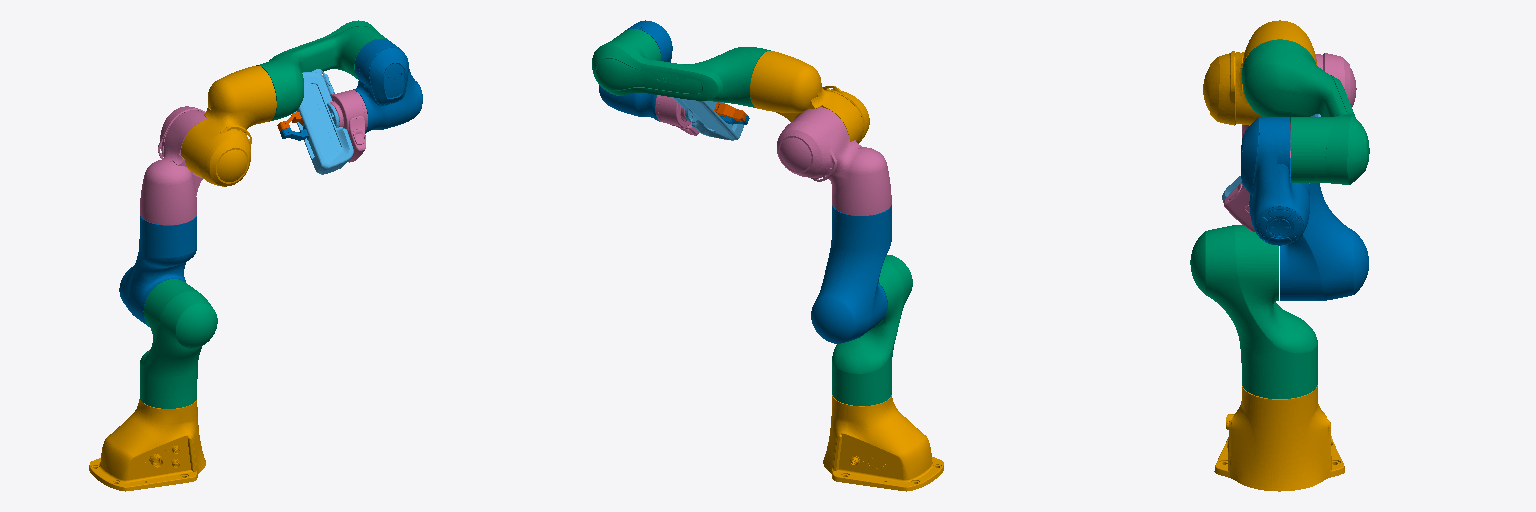
The robot description file, URDF, robot "panda":
<?xml version="1.0" encoding="utf-8"?>
<robot name="panda">
  <link name="panda_link0">
    <visual>
      <geometry>
        <mesh filename="package://franka_description/meshes/visual/link0.dae.obj"/>
      </geometry>
    </visual>
    <collision>
      <geometry>
        <mesh filename="package://franka_description/meshes/collision/link0.stl"/>
      </geometry>
    </collision>
  </link>
  <link name="panda_link0_sc">
    <collision>
      <origin xyz="-0.075 0.0 0.06" rpy="0.0 1.5707963267948966 0.0"/>
      <geometry>
        <cylinder radius="0.09" length="0.03"/>
      </geometry>
    </collision>
    <collision>
      <origin xyz="-0.06 0.0 0.06" rpy="0.0 0.0 0.0"/>
      <geometry>
        <sphere radius="0.09"/>
      </geometry>
    </collision>
    <collision>
      <origin xyz="-0.09 0.0 0.06" rpy="0.0 0.0 0.0"/>
      <geometry>
        <sphere radius="0.09"/>
      </geometry>
    </collision>
  </link>
  <link name="panda_link1">
    <visual>
      <geometry>
        <mesh filename="package://franka_description/meshes/visual/link1.dae.obj"/>
      </geometry>
    </visual>
    <collision>
      <geometry>
        <mesh filename="package://franka_description/meshes/collision/link1.stl"/>
      </geometry>
    </collision>
  </link>
  <link name="panda_link1_sc">
    <collision>
      <origin xyz="0.0 0.0 -0.1915" rpy="0.0 0.0 0.0"/>
      <geometry>
        <cylinder radius="0.09" length="0.283"/>
      </geometry>
    </collision>
    <collision>
      <origin xyz="0.0 0.0 -0.05000000000000002" rpy="0.0 0.0 0.0"/>
      <geometry>
        <sphere radius="0.09"/>
      </geometry>
    </collision>
    <collision>
      <origin xyz="0.0 0.0 -0.33299999999999996" rpy="0.0 0.0 0.0"/>
      <geometry>
        <sphere radius="0.09"/>
      </geometry>
    </collision>
  </link>
  <link name="panda_link2">
    <visual>
      <geometry>
        <mesh filename="package://franka_description/meshes/visual/link2.dae.obj"/>
      </geometry>
    </visual>
    <collision>
      <geometry>
        <mesh filename="package://franka_description/meshes/collision/link2.stl"/>
      </geometry>
    </collision>
  </link>
  <link name="panda_link2_sc">
    <collision>
      <origin xyz="0.0 0.0 0.0" rpy="0.0 0.0 0.0"/>
      <geometry>
        <cylinder radius="0.09" length="0.12"/>
      </geometry>
    </collision>
    <collision>
      <origin xyz="0.0 0.0 0.06" rpy="0.0 0.0 0.0"/>
      <geometry>
        <sphere radius="0.09"/>
      </geometry>
    </collision>
    <collision>
      <origin xyz="0.0 0.0 -0.06" rpy="0.0 0.0 0.0"/>
      <geometry>
        <sphere radius="0.09"/>
      </geometry>
    </collision>
  </link>
  <link name="panda_link3">
    <visual>
      <geometry>
        <mesh filename="package://franka_description/meshes/visual/link3.dae.obj"/>
      </geometry>
    </visual>
    <collision>
      <geometry>
        <mesh filename="package://franka_description/meshes/collision/link3.stl"/>
      </geometry>
    </collision>
  </link>
  <link name="panda_link3_sc">
    <collision>
      <origin xyz="0.0 0.0 -0.145" rpy="0.0 0.0 0.0"/>
      <geometry>
        <cylinder radius="0.09" length="0.15"/>
      </geometry>
    </collision>
    <collision>
      <origin xyz="0.0 0.0 -0.06999999999999999" rpy="0.0 0.0 0.0"/>
      <geometry>
        <sphere radius="0.09"/>
      </geometry>
    </collision>
    <collision>
      <origin xyz="0.0 0.0 -0.21999999999999997" rpy="0.0 0.0 0.0"/>
      <geometry>
        <sphere radius="0.09"/>
      </geometry>
    </collision>
  </link>
  <link name="panda_link4">
    <visual>
      <geometry>
        <mesh filename="package://franka_description/meshes/visual/link4.dae.obj"/>
      </geometry>
    </visual>
    <collision>
      <geometry>
        <mesh filename="package://franka_description/meshes/collision/link4.stl"/>
      </geometry>
    </collision>
  </link>
  <link name="panda_link4_sc">
    <collision>
      <origin xyz="0.0 0.0 0.0" rpy="0.0 0.0 0.0"/>
      <geometry>
        <cylinder radius="0.09" length="0.12"/>
      </geometry>
    </collision>
    <collision>
      <origin xyz="0.0 0.0 0.06" rpy="0.0 0.0 0.0"/>
      <geometry>
        <sphere radius="0.09"/>
      </geometry>
    </collision>
    <collision>
      <origin xyz="0.0 0.0 -0.06" rpy="0.0 0.0 0.0"/>
      <geometry>
        <sphere radius="0.09"/>
      </geometry>
    </collision>
  </link>
  <link name="panda_link5">
    <visual>
      <geometry>
        <mesh filename="package://franka_description/meshes/visual/link5.dae.obj"/>
      </geometry>
    </visual>
    <collision>
      <geometry>
        <mesh filename="package://franka_description/meshes/collision/link5.stl"/>
      </geometry>
    </collision>
  </link>
  <link name="panda_link5_sc">
    <collision>
      <origin xyz="0.0 0.0 -0.26" rpy="0.0 0.0 0.0"/>
      <geometry>
        <cylinder radius="0.09" length="0.1"/>
      </geometry>
    </collision>
    <collision>
      <origin xyz="0.0 0.0 -0.21000000000000002" rpy="0.0 0.0 0.0"/>
      <geometry>
        <sphere radius="0.09"/>
      </geometry>
    </collision>
    <collision>
      <origin xyz="0.0 0.0 -0.31" rpy="0.0 0.0 0.0"/>
      <geometry>
        <sphere radius="0.09"/>
      </geometry>
    </collision>
    <collision>
      <origin xyz="0.0 0.08 -0.13" rpy="0.0 0.0 0.08"/>
      <geometry>
        <cylinder radius="0.055" length="0.14"/>
      </geometry>
    </collision>
    <collision>
      <origin xyz="0.0 0.08 -0.06" rpy="0.0 0.0 0.0"/>
      <geometry>
        <sphere radius="0.055"/>
      </geometry>
    </collision>
    <collision>
      <origin xyz="0.0 0.08 -0.2" rpy="0.0 0.0 0.0"/>
      <geometry>
        <sphere radius="0.055"/>
      </geometry>
    </collision>
  </link>
  <link name="panda_link6">
    <visual>
      <geometry>
        <mesh filename="package://franka_description/meshes/visual/link6.dae.obj"/>
      </geometry>
    </visual>
    <collision>
      <geometry>
        <mesh filename="package://franka_description/meshes/collision/link6.stl"/>
      </geometry>
    </collision>
  </link>
  <link name="panda_link6_sc">
    <collision>
      <origin xyz="0.0 0.0 -0.03" rpy="0.0 0.0 0.0"/>
      <geometry>
        <cylinder radius="0.08" length="0.08"/>
      </geometry>
    </collision>
    <collision>
      <origin xyz="0.0 0.0 0.010000000000000002" rpy="0.0 0.0 0.0"/>
      <geometry>
        <sphere radius="0.08"/>
      </geometry>
    </collision>
    <collision>
      <origin xyz="0.0 0.0 -0.07" rpy="0.0 0.0 0.0"/>
      <geometry>
        <sphere radius="0.08"/>
      </geometry>
    </collision>
  </link>
  <link name="panda_link7">
    <visual>
      <geometry>
        <mesh filename="package://franka_description/meshes/visual/link7.dae.obj"/>
      </geometry>
    </visual>
    <collision>
      <geometry>
        <mesh filename="package://franka_description/meshes/collision/link7.stl"/>
      </geometry>
    </collision>
  </link>
  <link name="panda_link7_sc">
    <collision>
      <origin xyz="0.0 0.0 0.01" rpy="0.0 0.0 0.0"/>
      <geometry>
        <cylinder radius="0.07" length="0.14"/>
      </geometry>
    </collision>
    <collision>
      <origin xyz="0.0 0.0 0.08" rpy="0.0 0.0 0.0"/>
      <geometry>
        <sphere radius="0.07"/>
      </geometry>
    </collision>
    <collision>
      <origin xyz="0.0 0.0 -0.060000000000000005" rpy="0.0 0.0 0.0"/>
      <geometry>
        <sphere radius="0.07"/>
      </geometry>
    </collision>
    <collision>
      <origin xyz="0.06 0.0 0.082" rpy="0.0 1.5707963267948966 0.0"/>
      <geometry>
        <cylinder radius="0.06" length="0.01"/>
      </geometry>
    </collision>
    <collision>
      <origin xyz="0.065 0.0 0.082" rpy="0.0 0.0 0.0"/>
      <geometry>
        <sphere radius="0.06"/>
      </geometry>
    </collision>
    <collision>
      <origin xyz="0.055 0.0 0.082" rpy="0.0 0.0 0.0"/>
      <geometry>
        <sphere radius="0.06"/>
      </geometry>
    </collision>
  </link>
  <link name="panda_link8"/>
  <link name="panda_hand">
    <visual>
      <geometry>
        <mesh filename="package://franka_description/meshes/visual/hand.dae.obj"/>
      </geometry>
    </visual>
    <collision>
      <geometry>
        <mesh filename="package://franka_description/meshes/collision/hand.stl"/>
      </geometry>
    </collision>
  </link>
  <link name="panda_hand_sc">
    <collision>
      <origin xyz="0.0 0.0 0.04" rpy="1.5707963267948966 0.0 0.0"/>
      <geometry>
        <cylinder radius="0.07" length="0.1"/>
      </geometry>
    </collision>
    <collision>
      <origin xyz="0.0 0.05 0.04" rpy="0.0 0.0 0.0"/>
      <geometry>
        <sphere radius="0.07"/>
      </geometry>
    </collision>
    <collision>
      <origin xyz="0.0 -0.05 0.04" rpy="0.0 0.0 0.0"/>
      <geometry>
        <sphere radius="0.07"/>
      </geometry>
    </collision>
    <collision>
      <origin xyz="0.0 0.0 0.1" rpy="1.5707963267948966 0.0 0.0"/>
      <geometry>
        <cylinder radius="0.05" length="0.1"/>
      </geometry>
    </collision>
    <collision>
      <origin xyz="0.0 0.05 0.1" rpy="0.0 0.0 0.0"/>
      <geometry>
        <sphere radius="0.05"/>
      </geometry>
    </collision>
    <collision>
      <origin xyz="0.0 -0.05 0.1" rpy="0.0 0.0 0.0"/>
      <geometry>
        <sphere radius="0.05"/>
      </geometry>
    </collision>
  </link>
  <link name="panda_hand_tcp"/>
  <link name="panda_leftfinger">
    <visual>
      <geometry>
        <mesh filename="package://franka_description/meshes/visual/finger.dae.obj"/>
      </geometry>
    </visual>
    <collision>
      <origin xyz="0.0 0.0185 0.011" rpy="0.0 0.0 0.0"/>
      <geometry>
        <box size="0.022 0.015 0.02"/>
      </geometry>
    </collision>
    <collision>
      <origin xyz="0.0 0.0068 0.0022" rpy="0.0 0.0 0.0"/>
      <geometry>
        <box size="0.022 0.0088 0.0038"/>
      </geometry>
    </collision>
    <collision>
      <origin xyz="0.0 0.0159 0.02835" rpy="0.5235987755982988 0.0 0.0"/>
      <geometry>
        <box size="0.0175 0.007 0.0235"/>
      </geometry>
    </collision>
    <collision>
      <origin xyz="0.0 0.00758 0.04525" rpy="0.0 0.0 0.0"/>
      <geometry>
        <box size="0.0175 0.0152 0.0185"/>
      </geometry>
    </collision>
  </link>
  <link name="panda_rightfinger">
    <visual>
      <origin xyz="0.0 0.0 0.0" rpy="0.0 0.0 3.141592653589793"/>
      <geometry>
        <mesh filename="package://franka_description/meshes/visual/finger.dae.obj"/>
      </geometry>
    </visual>
    <collision>
      <origin xyz="0.0 -0.0185 0.011" rpy="0.0 0.0 0.0"/>
      <geometry>
        <box size="0.022 0.015 0.02"/>
      </geometry>
    </collision>
    <collision>
      <origin xyz="0.0 -0.0068 0.0022" rpy="0.0 0.0 0.0"/>
      <geometry>
        <box size="0.022 0.0088 0.0038"/>
      </geometry>
    </collision>
    <collision>
      <origin xyz="0.0 -0.0159 0.02835" rpy="-0.5235987755982988 0.0 0.0"/>
      <geometry>
        <box size="0.0175 0.007 0.0235"/>
      </geometry>
    </collision>
    <collision>
      <origin xyz="0.0 -0.00758 0.04525" rpy="0.0 0.0 0.0"/>
      <geometry>
        <box size="0.0175 0.0152 0.0185"/>
      </geometry>
    </collision>
  </link>
  <joint name="panda_link0_sc_joint" type="fixed">
    <parent link="panda_link0"/>
    <child link="panda_link0_sc"/>
    <axis xyz="1.0 0.0 0.0"/>
    <origin xyz="0.0 0.0 0.0" rpy="0.0 0.0 0.0"/>
  </joint>
  <joint name="panda_link1_sc_joint" type="fixed">
    <parent link="panda_link1"/>
    <child link="panda_link1_sc"/>
    <axis xyz="1.0 0.0 0.0"/>
    <origin xyz="0.0 0.0 0.0" rpy="0.0 0.0 0.0"/>
  </joint>
  <joint name="panda_joint1" type="revolute">
    <parent link="panda_link0"/>
    <child link="panda_link1"/>
    <axis xyz="0.0 0.0 1.0"/>
    <dynamics damping="0.003" friction="0.0" D="1" K="7000" mu_coulomb="0" mu_viscous="16"/>
    <limit lower="-2.8973" upper="2.8973" effort="87.0" velocity="2.175"/>
    <safety_controller k_position="100.0" soft_lower_limit="-2.8973" soft_upper_limit="2.8973" k_velocity="40.0"/>
    <origin xyz="0.0 0.0 0.333" rpy="0.0 0.0 0.0"/>
  </joint>
  <joint name="panda_link2_sc_joint" type="fixed">
    <parent link="panda_link2"/>
    <child link="panda_link2_sc"/>
    <axis xyz="1.0 0.0 0.0"/>
    <origin xyz="0.0 0.0 0.0" rpy="0.0 0.0 0.0"/>
  </joint>
  <joint name="panda_joint2" type="revolute">
    <parent link="panda_link1"/>
    <child link="panda_link2"/>
    <axis xyz="0.0 0.0 1.0"/>
    <dynamics damping="0.003" friction="0.0" D="1" K="7000" mu_coulomb="0" mu_viscous="16"/>
    <limit lower="-1.7628" upper="1.7628" effort="87.0" velocity="2.175"/>
    <safety_controller k_position="100.0" soft_lower_limit="-1.7628" soft_upper_limit="1.7628" k_velocity="40.0"/>
    <origin xyz="0.0 0.0 0.0" rpy="-1.5707963267948966 0.0 0.0"/>
  </joint>
  <joint name="panda_link3_sc_joint" type="fixed">
    <parent link="panda_link3"/>
    <child link="panda_link3_sc"/>
    <axis xyz="1.0 0.0 0.0"/>
    <origin xyz="0.0 0.0 0.0" rpy="0.0 0.0 0.0"/>
  </joint>
  <joint name="panda_joint3" type="revolute">
    <parent link="panda_link2"/>
    <child link="panda_link3"/>
    <axis xyz="0.0 0.0 1.0"/>
    <dynamics damping="0.003" friction="0.0" D="1" K="7000" mu_coulomb="0" mu_viscous="16"/>
    <limit lower="-2.8973" upper="2.8973" effort="87.0" velocity="2.175"/>
    <safety_controller k_position="100.0" soft_lower_limit="-2.8973" soft_upper_limit="2.8973" k_velocity="40.0"/>
    <origin xyz="0.0 -0.316 0.0" rpy="1.5707963267948966 0.0 0.0"/>
  </joint>
  <joint name="panda_link4_sc_joint" type="fixed">
    <parent link="panda_link4"/>
    <child link="panda_link4_sc"/>
    <axis xyz="1.0 0.0 0.0"/>
    <origin xyz="0.0 0.0 0.0" rpy="0.0 0.0 0.0"/>
  </joint>
  <joint name="panda_joint4" type="revolute">
    <parent link="panda_link3"/>
    <child link="panda_link4"/>
    <axis xyz="0.0 0.0 1.0"/>
    <dynamics damping="0.003" friction="0.0" D="1" K="7000" mu_coulomb="0" mu_viscous="16"/>
    <limit lower="-3.0718" upper="-0.0698" effort="87.0" velocity="2.175"/>
    <safety_controller k_position="100.0" soft_lower_limit="-3.0718" soft_upper_limit="-0.0698" k_velocity="40.0"/>
    <origin xyz="0.0825 0.0 0.0" rpy="1.5707963267948966 0.0 0.0"/>
  </joint>
  <joint name="panda_link5_sc_joint" type="fixed">
    <parent link="panda_link5"/>
    <child link="panda_link5_sc"/>
    <axis xyz="1.0 0.0 0.0"/>
    <origin xyz="0.0 0.0 0.0" rpy="0.0 0.0 0.0"/>
  </joint>
  <joint name="panda_joint5" type="revolute">
    <parent link="panda_link4"/>
    <child link="panda_link5"/>
    <axis xyz="0.0 0.0 1.0"/>
    <dynamics damping="0.003" friction="0.0" D="1" K="7000" mu_coulomb="0" mu_viscous="16"/>
    <limit lower="-2.8973" upper="2.8973" effort="12.0" velocity="2.61"/>
    <safety_controller k_position="100.0" soft_lower_limit="-2.8973" soft_upper_limit="2.8973" k_velocity="40.0"/>
    <origin xyz="-0.0825 0.384 0.0" rpy="-1.5707963267948966 0.0 0.0"/>
  </joint>
  <joint name="panda_link6_sc_joint" type="fixed">
    <parent link="panda_link6"/>
    <child link="panda_link6_sc"/>
    <axis xyz="1.0 0.0 0.0"/>
    <origin xyz="0.0 0.0 0.0" rpy="0.0 0.0 0.0"/>
  </joint>
  <joint name="panda_joint6" type="revolute">
    <parent link="panda_link5"/>
    <child link="panda_link6"/>
    <axis xyz="0.0 0.0 1.0"/>
    <dynamics damping="0.003" friction="0.0" D="1" K="7000" mu_coulomb="0" mu_viscous="16"/>
    <limit lower="-0.0175" upper="3.7525" effort="12.0" velocity="2.61"/>
    <safety_controller k_position="100.0" soft_lower_limit="-0.0175" soft_upper_limit="3.7525" k_velocity="40.0"/>
    <origin xyz="0.0 0.0 0.0" rpy="1.5707963267948966 0.0 0.0"/>
  </joint>
  <joint name="panda_link7_sc_joint" type="fixed">
    <parent link="panda_link7"/>
    <child link="panda_link7_sc"/>
    <axis xyz="1.0 0.0 0.0"/>
    <origin xyz="0.0 0.0 0.0" rpy="0.0 0.0 0.7853981633974483"/>
  </joint>
  <joint name="panda_joint7" type="revolute">
    <parent link="panda_link6"/>
    <child link="panda_link7"/>
    <axis xyz="0.0 0.0 1.0"/>
    <dynamics damping="0.003" friction="0.0" D="1" K="7000" mu_coulomb="0" mu_viscous="16"/>
    <limit lower="-2.8973" upper="2.8973" effort="12.0" velocity="2.61"/>
    <safety_controller k_position="100.0" soft_lower_limit="-2.8973" soft_upper_limit="2.8973" k_velocity="40.0"/>
    <origin xyz="0.088 0.0 0.0" rpy="1.5707963267948966 0.0 0.0"/>
  </joint>
  <joint name="panda_joint8" type="fixed">
    <parent link="panda_link7"/>
    <child link="panda_link8"/>
    <axis xyz="1.0 0.0 0.0"/>
    <origin xyz="0.0 0.0 0.107" rpy="0.0 0.0 0.0"/>
  </joint>
  <joint name="panda_hand_joint" type="fixed">
    <parent link="panda_link8"/>
    <child link="panda_hand"/>
    <axis xyz="1.0 0.0 0.0"/>
    <origin xyz="0.0 0.0 0.0" rpy="0.0 0.0 -0.7853981633974483"/>
  </joint>
  <joint name="panda_hand_sc_joint" type="fixed">
    <parent link="panda_hand"/>
    <child link="panda_hand_sc"/>
    <axis xyz="1.0 0.0 0.0"/>
    <origin xyz="0.0 0.0 0.0" rpy="0.0 0.0 0.0"/>
  </joint>
  <joint name="panda_hand_tcp_joint" type="fixed">
    <parent link="panda_hand"/>
    <child link="panda_hand_tcp"/>
    <axis xyz="1.0 0.0 0.0"/>
    <origin xyz="0.0 0.0 0.1034" rpy="0.0 0.0 0.0"/>
  </joint>
  <joint name="panda_finger_joint1" type="prismatic">
    <parent link="panda_hand"/>
    <child link="panda_leftfinger"/>
    <axis xyz="0.0 1.0 0.0"/>
    <dynamics damping="0.3" friction="0.0"/>
    <limit upper="0.04" effort="100.0" velocity="0.2"/>
    <origin xyz="0.0 0.0 0.0584" rpy="0.0 0.0 0.0"/>
  </joint>
  <joint name="panda_finger_joint2" type="prismatic">
    <parent link="panda_hand"/>
    <child link="panda_rightfinger"/>
    <axis xyz="0.0 -1.0 0.0"/>
    <dynamics damping="0.3" friction="0.0"/>
    <limit upper="0.04" effort="100.0" velocity="0.2"/>
    <mimic joint="panda_finger_joint1"/>
    <origin xyz="0.0 0.0 0.0584" rpy="0.0 0.0 0.0"/>
  </joint>
</robot>

--- Render facts (derived) ---
The picture shows the robot from 3 angles, left to right: view 1: azimuth 30°, elevation 25°; view 2: azimuth 150°, elevation 25°; view 3: azimuth 270°, elevation 25°; orthographic projection.
Model panda with 22 links and 21 joints (7 revolute, 2 prismatic, 12 fixed), rooted at panda_link0, posed joints at zero except 1 at the middle of their limits (panda_joint4 = -1.57).
Visible links, largest first — view 1: panda_link0, panda_link1, panda_link4, panda_link3, panda_link5, panda_link6, panda_link2, panda_hand, panda_link7; view 2: panda_link0, panda_link5, panda_link2, panda_link3, panda_link1, panda_link4, panda_link6, panda_hand, panda_link7; view 3: panda_link1, panda_link5, panda_link0, panda_link2, panda_link6, panda_link4, panda_link3, panda_link7.
Boxes of the visible links, <box> form: panda_link0: <box>89,399,205,491</box>; panda_link1: <box>140,279,217,408</box>; panda_link4: <box>181,66,276,186</box>; panda_link3: <box>140,106,206,224</box>; panda_link5: <box>256,20,387,121</box>; panda_link6: <box>353,39,422,133</box>; panda_link2: <box>119,216,196,326</box>; panda_hand: <box>294,69,353,174</box>; panda_link7: <box>330,90,367,162</box>; panda_link0: <box>823,395,943,491</box>; panda_link5: <box>592,29,770,107</box>; panda_link2: <box>811,205,891,343</box>; panda_link3: <box>777,107,891,215</box>; panda_link1: <box>832,255,912,405</box>; panda_link4: <box>750,51,869,143</box>; panda_link6: <box>599,20,672,121</box>; panda_hand: <box>673,97,743,140</box>; panda_link7: <box>655,95,698,135</box>; panda_link1: <box>1190,225,1317,398</box>; panda_link5: <box>1242,40,1369,184</box>; panda_link0: <box>1214,385,1344,491</box>; panda_link2: <box>1280,183,1368,300</box>; panda_link6: <box>1241,117,1309,245</box>; panda_link4: <box>1203,20,1316,125</box>; panda_link3: <box>1242,53,1356,137</box>; panda_link7: <box>1224,151,1309,231</box>.
Bounding box of the posed robot: 0.7022 × 0.2593 × 0.7865 m (x, y, z).
11 mesh visuals loaded from 10 distinct referenced files (10 OBJ).